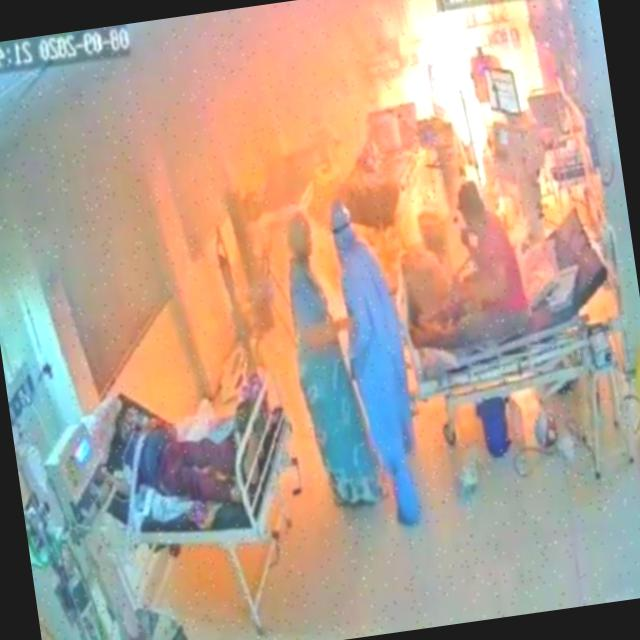fire: (382, 3, 520, 184)
